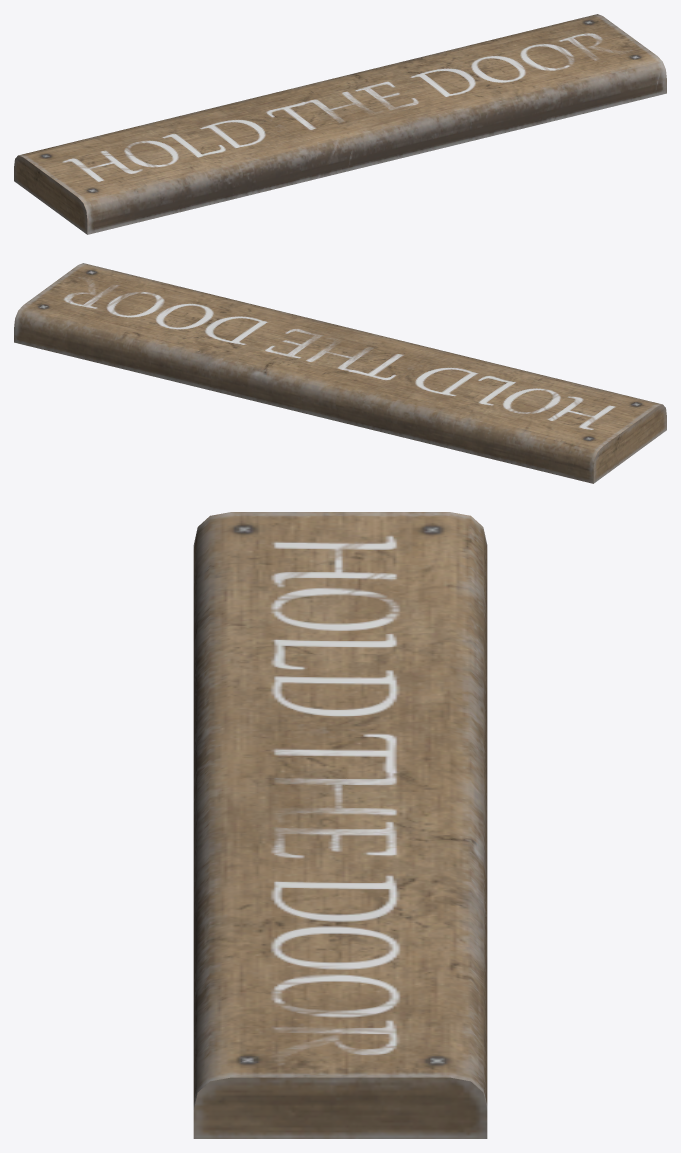
File: SM_Sign02.FBX
3 renders of one model, top to bottom at view 1: azimuth 30°, elevation 25°; view 2: azimuth 150°, elevation 25°; view 3: azimuth 270°, elevation 25°, orthographic. The views are drawn at different scales.
Visible parts, largest first — view 1: SM_Sign02; view 2: SM_Sign02; view 3: SM_Sign02.
Boxes of the visible parts, x1=… form: SM_Sign02: x1=14, y1=14, x2=666, y2=234; SM_Sign02: x1=14, y1=263, x2=666, y2=483; SM_Sign02: x1=193, y1=512, x2=487, y2=1138.
Bounding box in the file's own units: 60.89 × 13.37 × 3.07.
